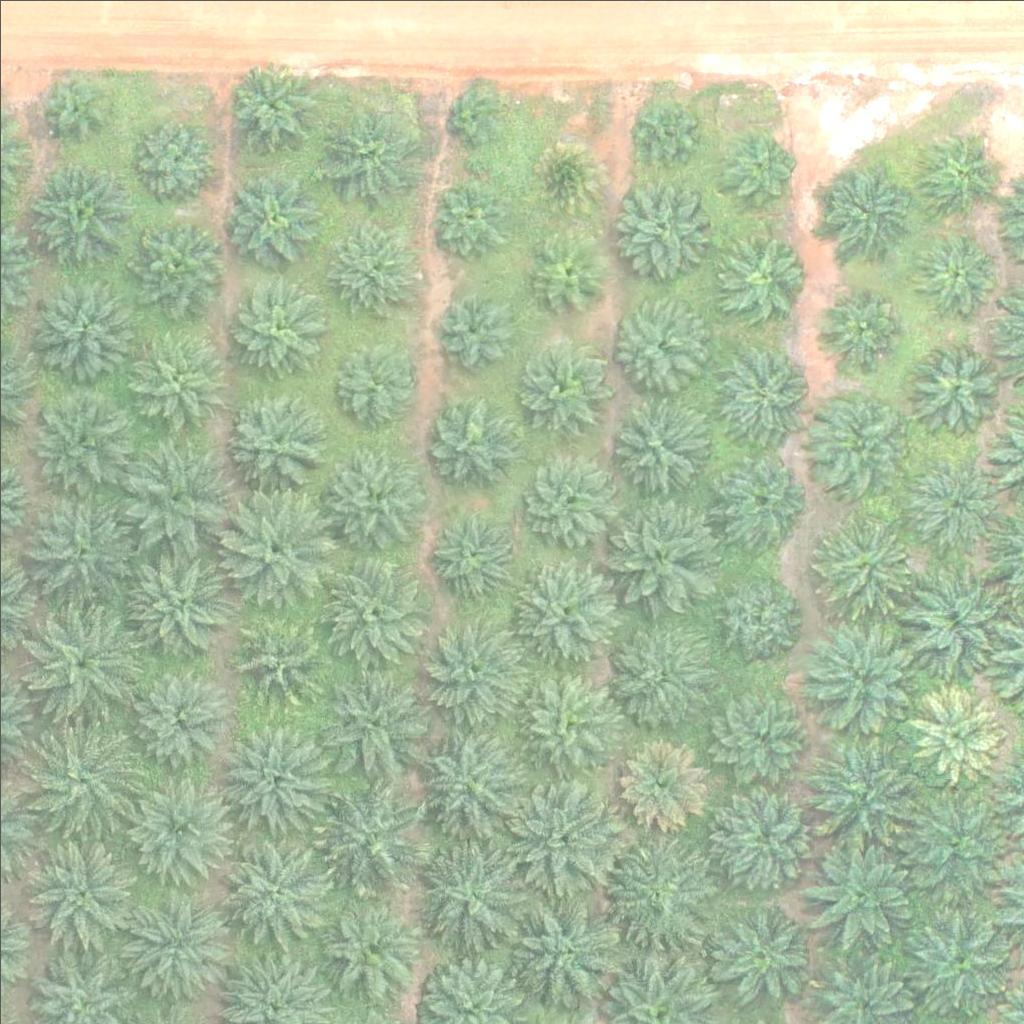Kelapa_Sawit: (901, 907, 1014, 1021), (895, 781, 1008, 895), (803, 836, 916, 950), (115, 888, 228, 1002), (806, 613, 919, 727), (508, 889, 621, 1002), (505, 779, 618, 892), (212, 829, 325, 942), (119, 770, 232, 883), (24, 603, 137, 716), (25, 498, 138, 611), (122, 549, 235, 662), (413, 726, 526, 839), (805, 739, 918, 852), (24, 831, 136, 945), (898, 564, 1010, 678), (600, 834, 712, 947), (418, 840, 530, 953), (317, 780, 429, 893), (29, 723, 141, 836), (117, 442, 229, 555), (219, 493, 331, 606), (320, 554, 432, 667), (220, 726, 332, 839), (316, 667, 428, 780), (598, 491, 710, 604), (714, 903, 814, 1004), (317, 899, 417, 1000), (23, 389, 123, 490), (29, 281, 129, 382), (28, 159, 128, 260), (122, 332, 222, 433), (123, 215, 223, 316), (224, 390, 324, 491), (225, 274, 325, 375), (321, 446, 421, 547), (424, 624, 524, 725), (513, 673, 613, 774), (706, 687, 806, 788), (604, 627, 704, 728), (811, 159, 911, 260), (714, 788, 814, 888), (222, 58, 322, 158), (316, 108, 416, 208), (514, 562, 614, 662), (516, 451, 616, 551), (812, 512, 912, 612), (808, 380, 908, 480), (606, 294, 706, 394), (610, 176, 710, 276), (233, 616, 321, 705), (913, 129, 1001, 218), (129, 114, 217, 202), (515, 343, 603, 431), (618, 739, 706, 827), (915, 460, 1003, 548), (913, 343, 1001, 431), (612, 403, 700, 491), (811, 282, 899, 370), (910, 231, 998, 319), (225, 174, 312, 262), (331, 343, 418, 431), (329, 231, 416, 319), (432, 513, 519, 601), (426, 394, 513, 482), (133, 674, 220, 762), (912, 694, 999, 782), (711, 572, 798, 660), (710, 454, 797, 542), (719, 348, 806, 436), (713, 229, 800, 317), (528, 230, 603, 306), (438, 291, 513, 367), (36, 67, 111, 143), (431, 182, 506, 258), (527, 141, 602, 217), (629, 92, 704, 168), (719, 134, 794, 209), (442, 82, 504, 145)
